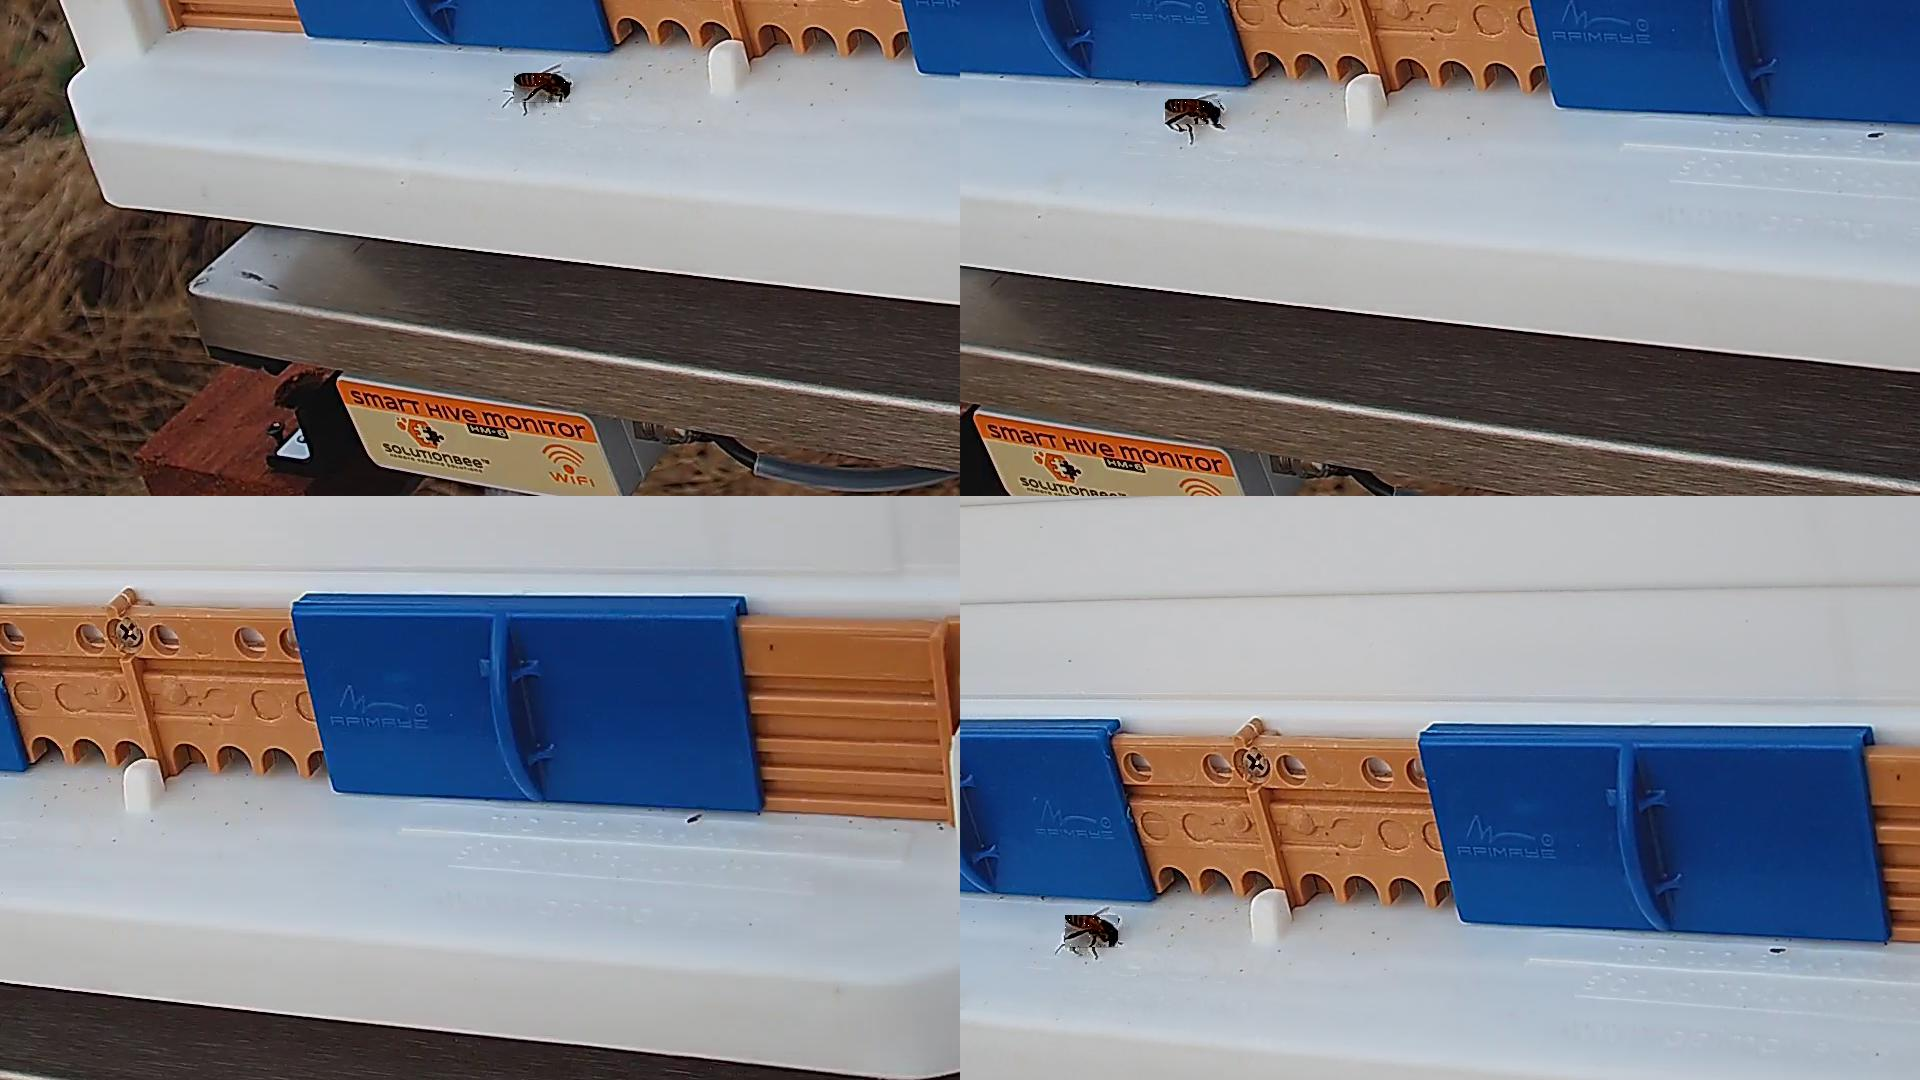bee: (1065, 916, 1120, 952), (514, 74, 571, 107), (1166, 100, 1225, 129)
